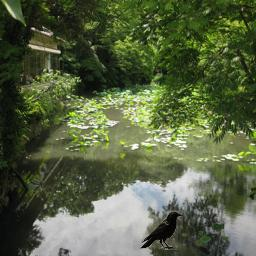Crow: (139, 210, 183, 250)
